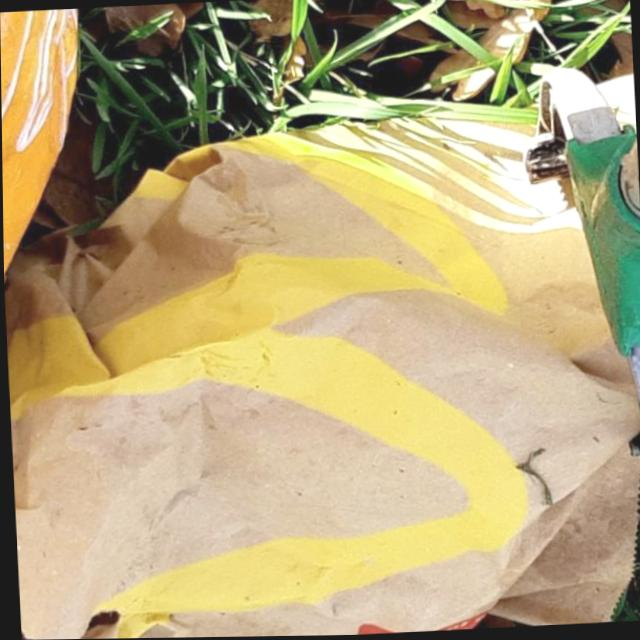Paper: (1, 98, 640, 640)
